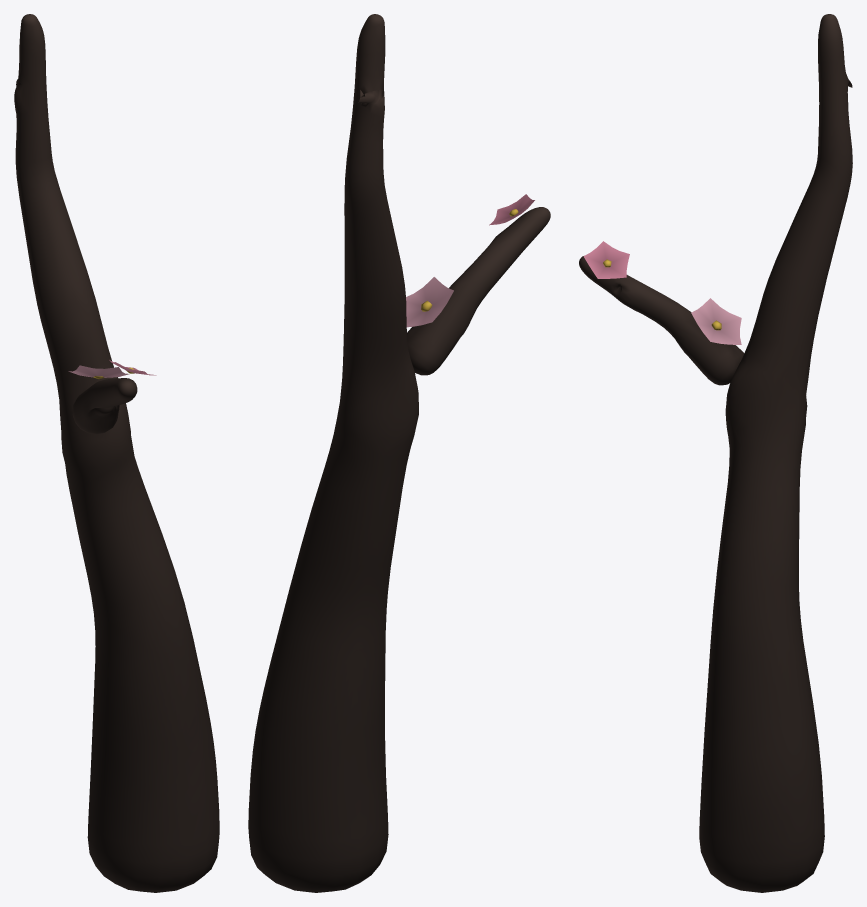
Rendered from tree_03_2.glb.
3 views of the same model, side by side, from view 1: azimuth 30°, elevation 25°; view 2: azimuth 150°, elevation 25°; view 3: azimuth 270°, elevation 25° (orthographic). The views are drawn at different scales.
Parts seen in each view (by area): view 1: bark, blooms; view 2: bark, blooms; view 3: bark, blooms.
Part boxes in pixels (bbox=[...]): bark: bbox=[14, 14, 219, 892]; blooms: bbox=[68, 360, 156, 378]; bark: bbox=[248, 14, 550, 892]; blooms: bbox=[406, 194, 534, 327]; bark: bbox=[579, 14, 852, 892]; blooms: bbox=[583, 241, 741, 344].
Size of the model in its own units: 0.3721 by 1.68 by 0.5039.
